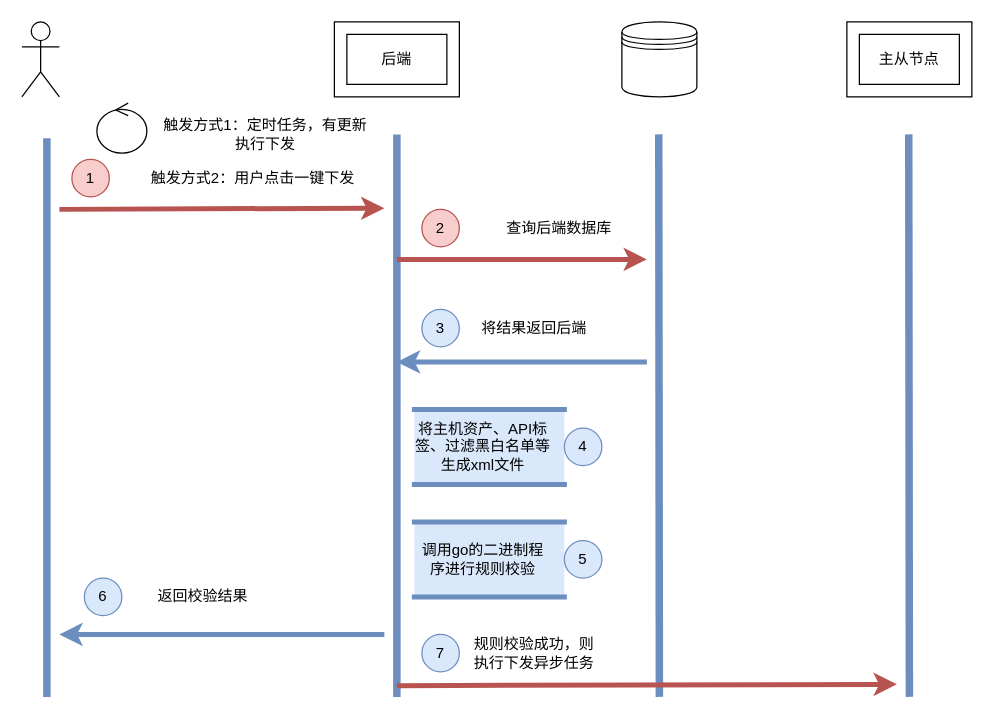
Some shapes in this 994 by 724 pixel diagram are drawn without their labels. Each missing label, with the centre of its shape:
"5min" belongs at [121,127].
"Actor" belongs at [40,59].
